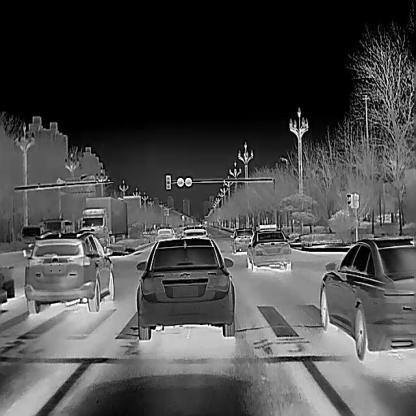car: (319, 236, 415, 360), (136, 233, 235, 339), (23, 228, 114, 314), (80, 196, 127, 242), (246, 224, 291, 271), (230, 228, 254, 253), (22, 226, 44, 253), (42, 219, 73, 236), (181, 225, 207, 238), (156, 227, 176, 241)
